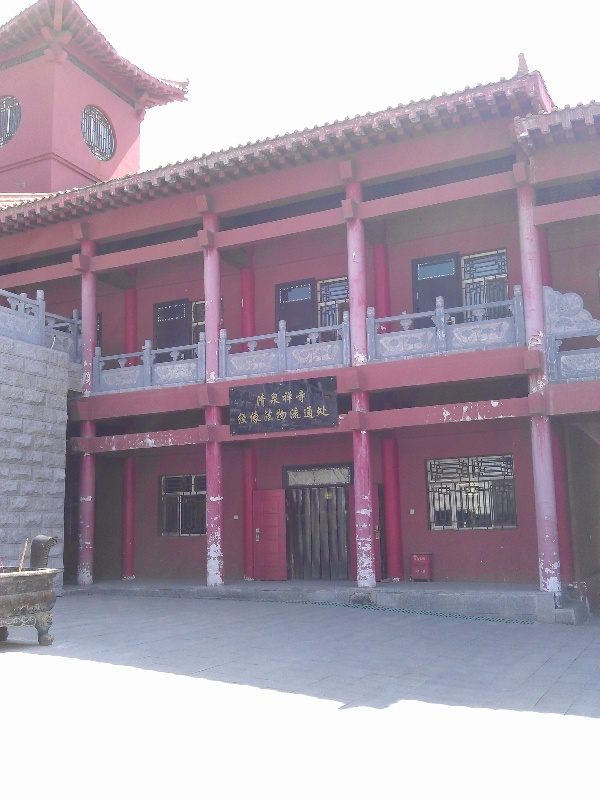text: (257, 389, 272, 409), (273, 389, 288, 409), (289, 389, 304, 409), (241, 405, 256, 425), (257, 405, 272, 425), (273, 405, 288, 425), (289, 405, 304, 425), (305, 405, 320, 425), (321, 405, 329, 425), (236, 405, 240, 425), (305, 389, 308, 409)
